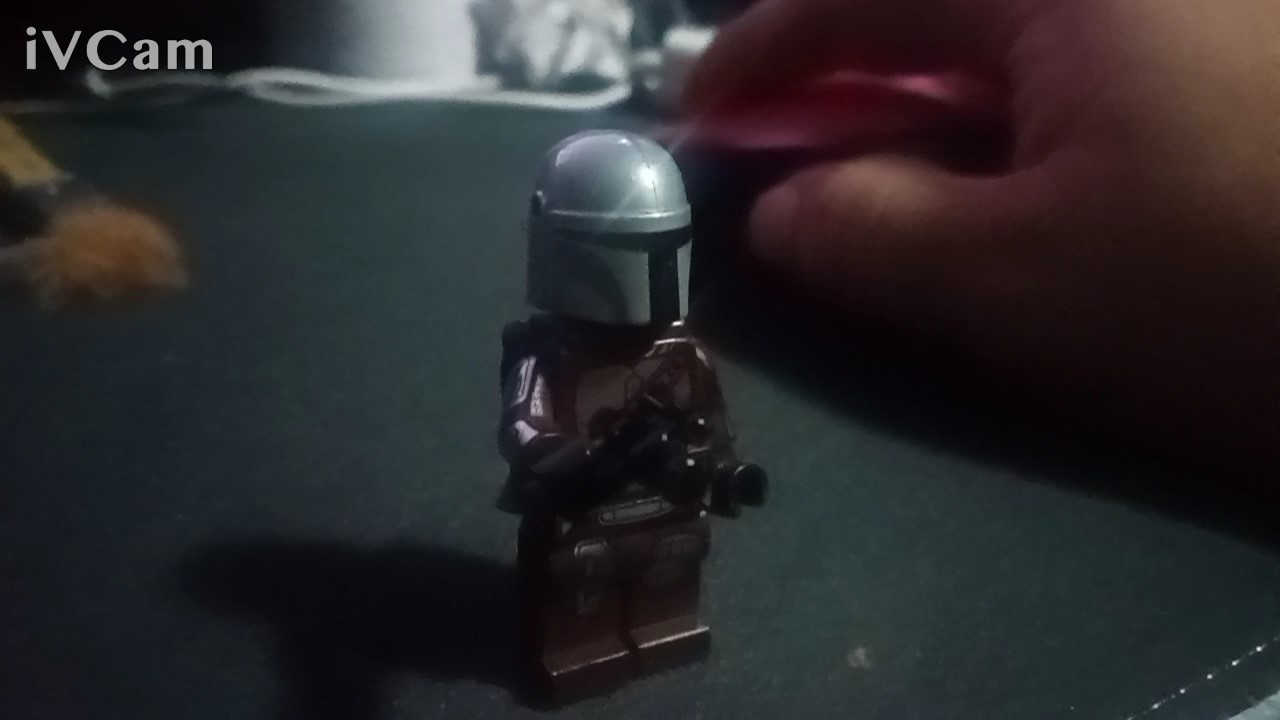mandalorian: (483, 139, 783, 693)
